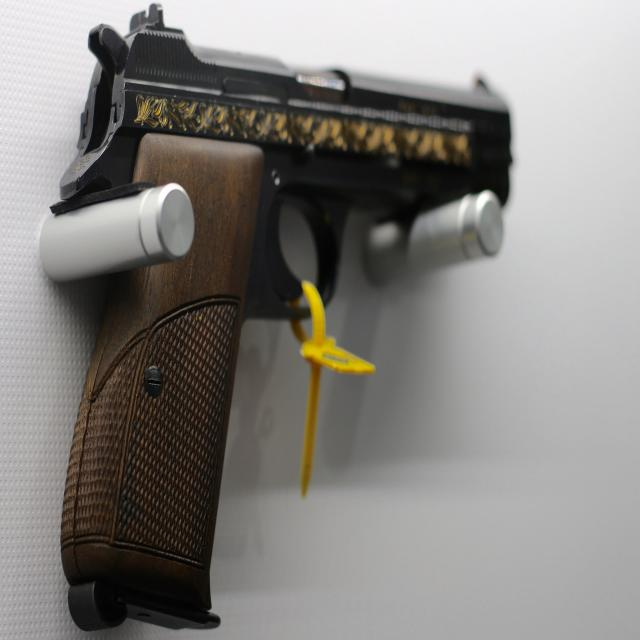HandGun: (51, 4, 514, 633)
